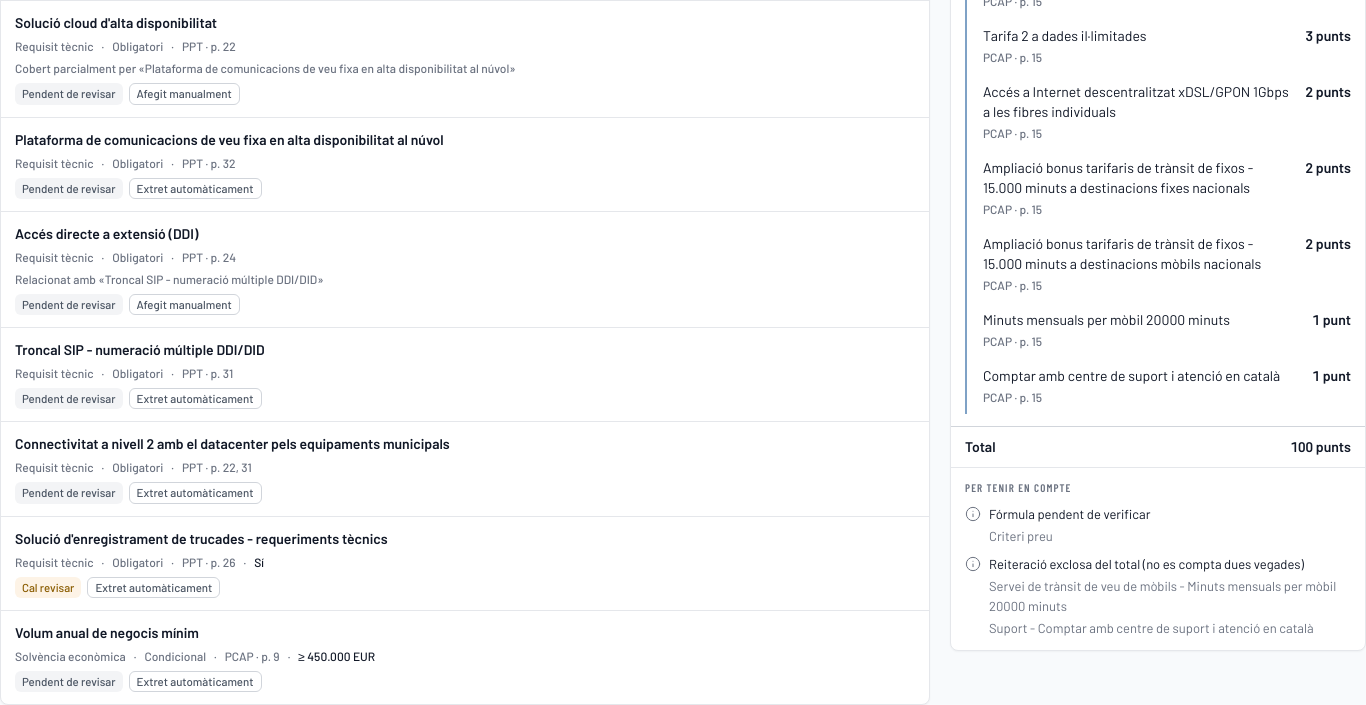
Test: Accions de revisió d'un requisit › Marcar parcial demana una nota abans d'enviar res
The width and height of the screenshot is (1366, 705).
(page scrolled)
Click the button "Volum anual de negocis mínim" at coordinates (107, 632), box [1,611,929,704]
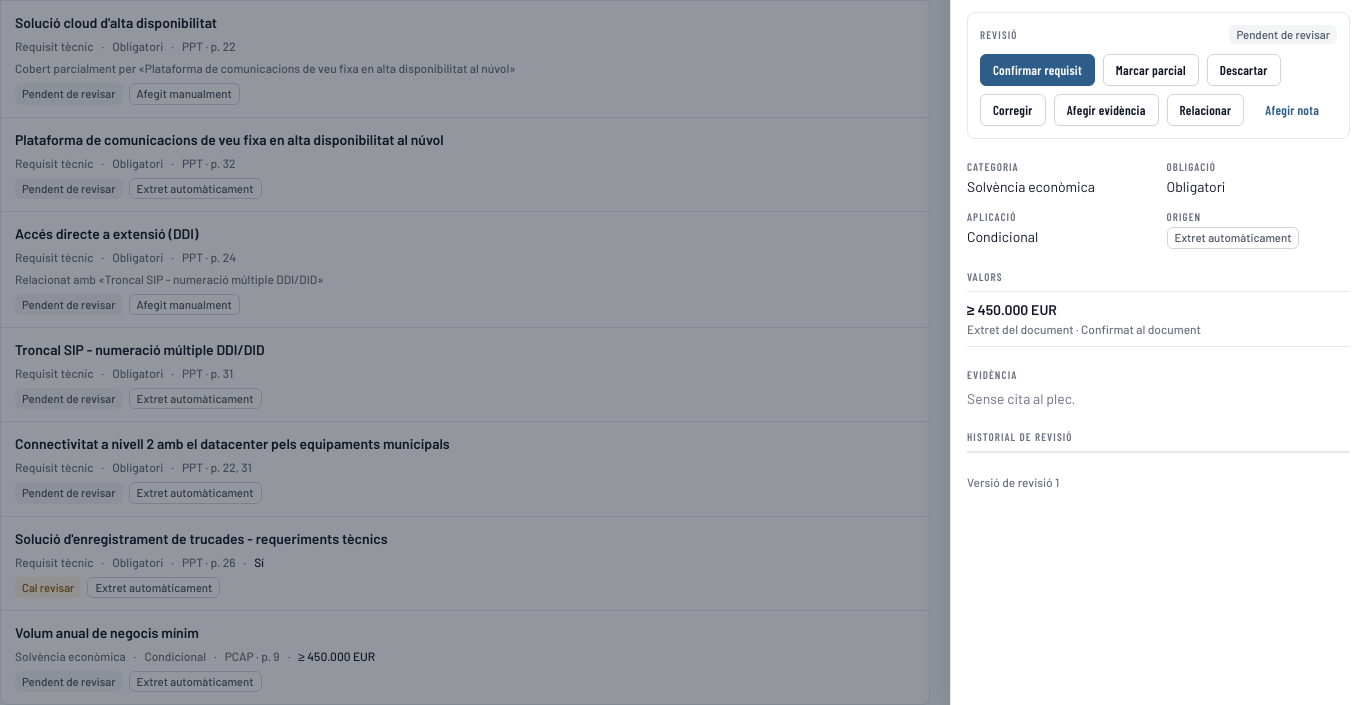
Click the button "Marcar parcial" at coordinates (1151, 70), box [1103,54,1199,86]
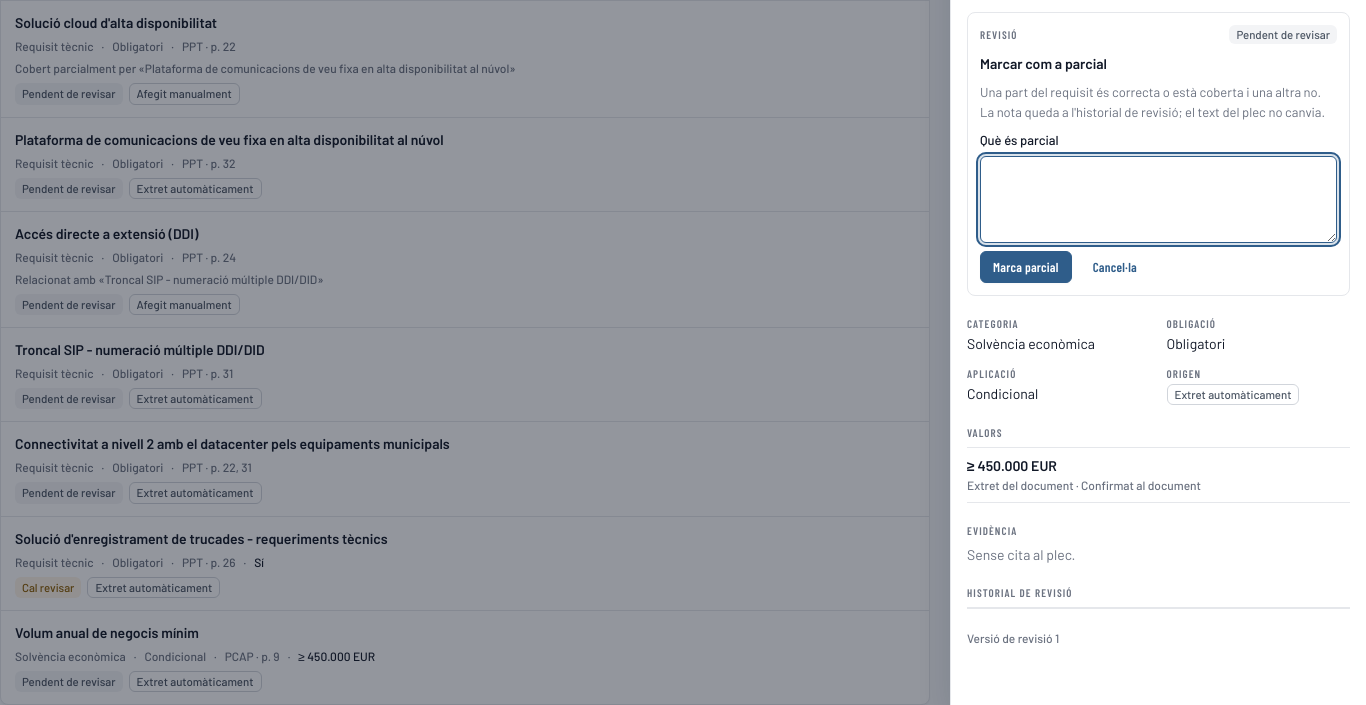
Click the button "Marca parcial" at coordinates (1026, 266), box [980,250,1072,282]
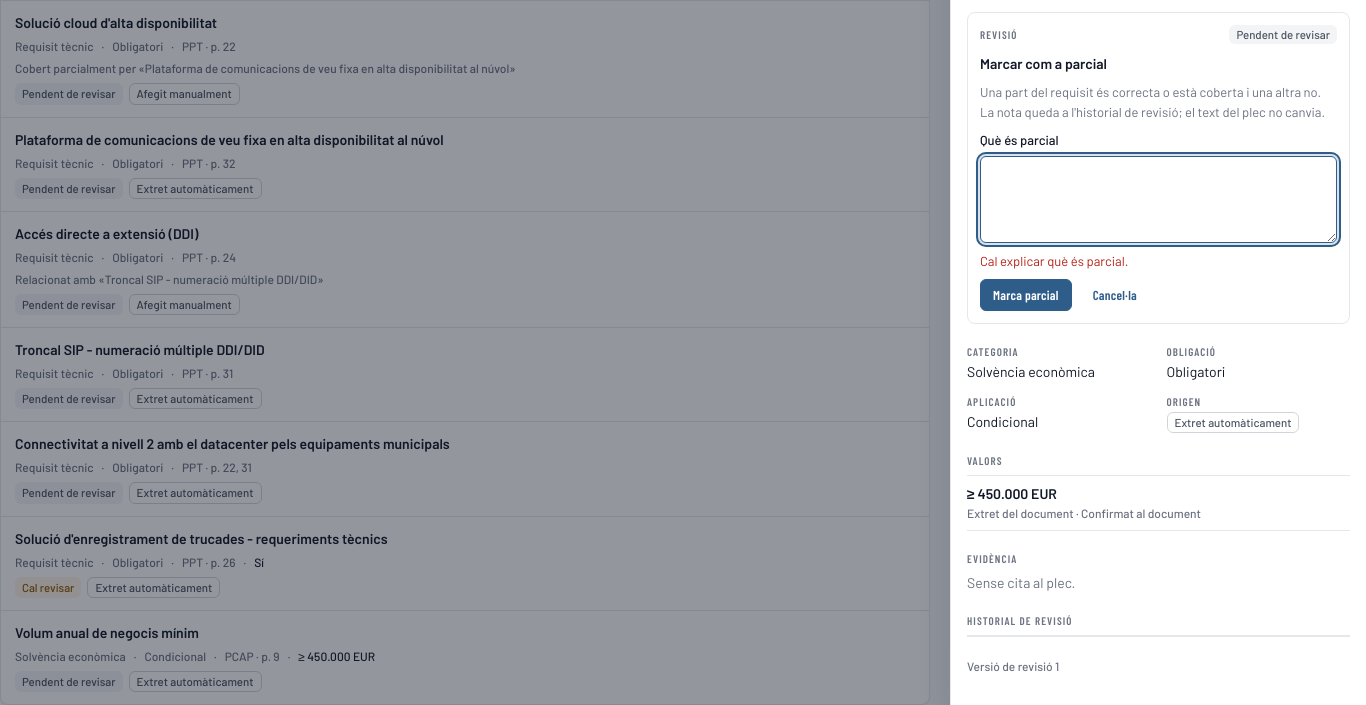
Check: the text "Cal explicar què és parcial." is shown, box [980,252,1128,268]
Type "  Només cobreix el darrer exercici  " into the text box at coordinates (1158, 199), box [980,156,1337,243]
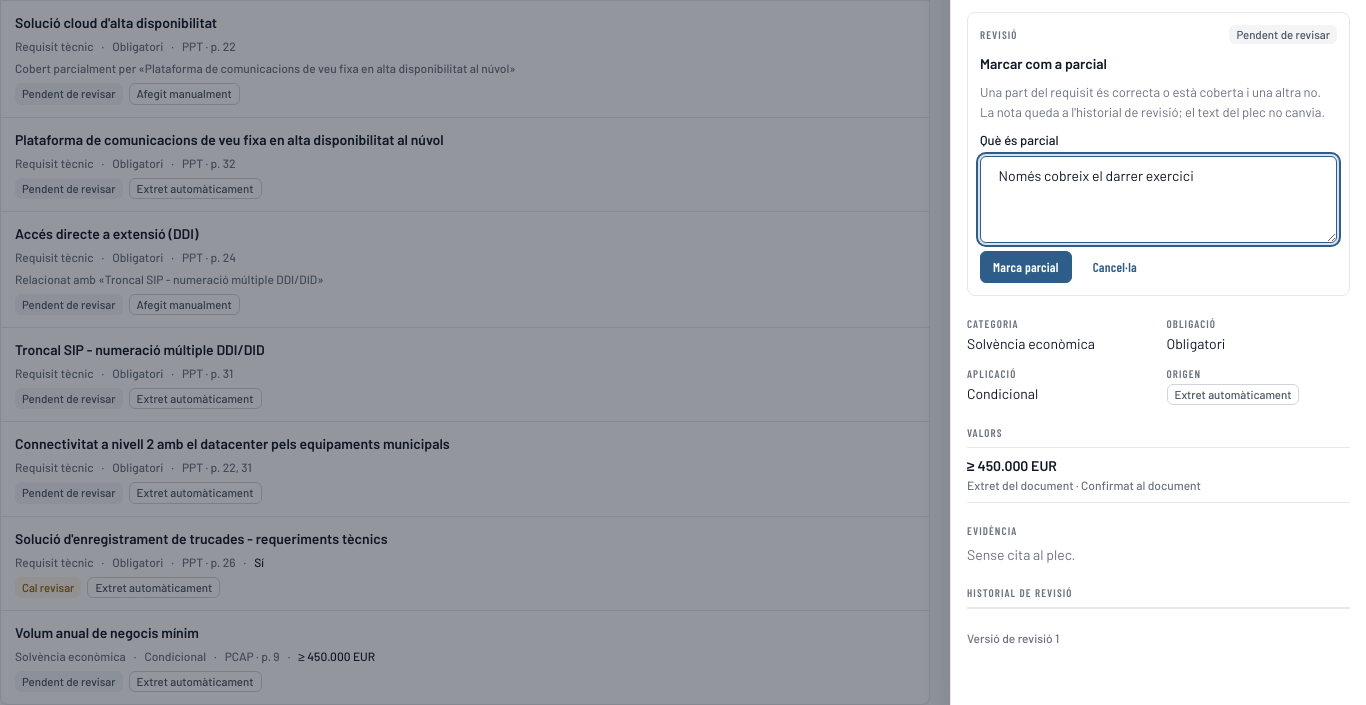
Click the button "Marca parcial" at coordinates (1026, 266), box [980,250,1072,282]
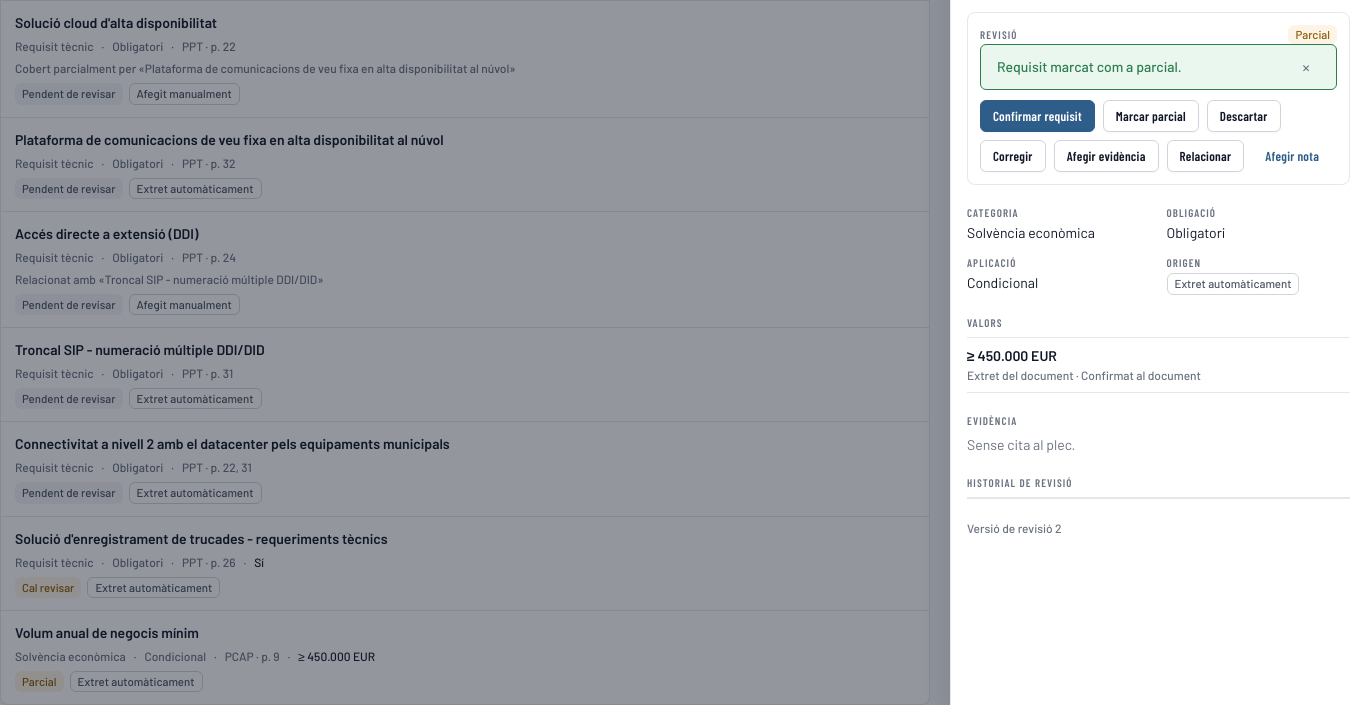
Check: the text "Requisit marcat com a parcial." is shown, box [997,57,1182,77]
Check: the text "Parcial" is shown, box [1288,25,1337,44]
